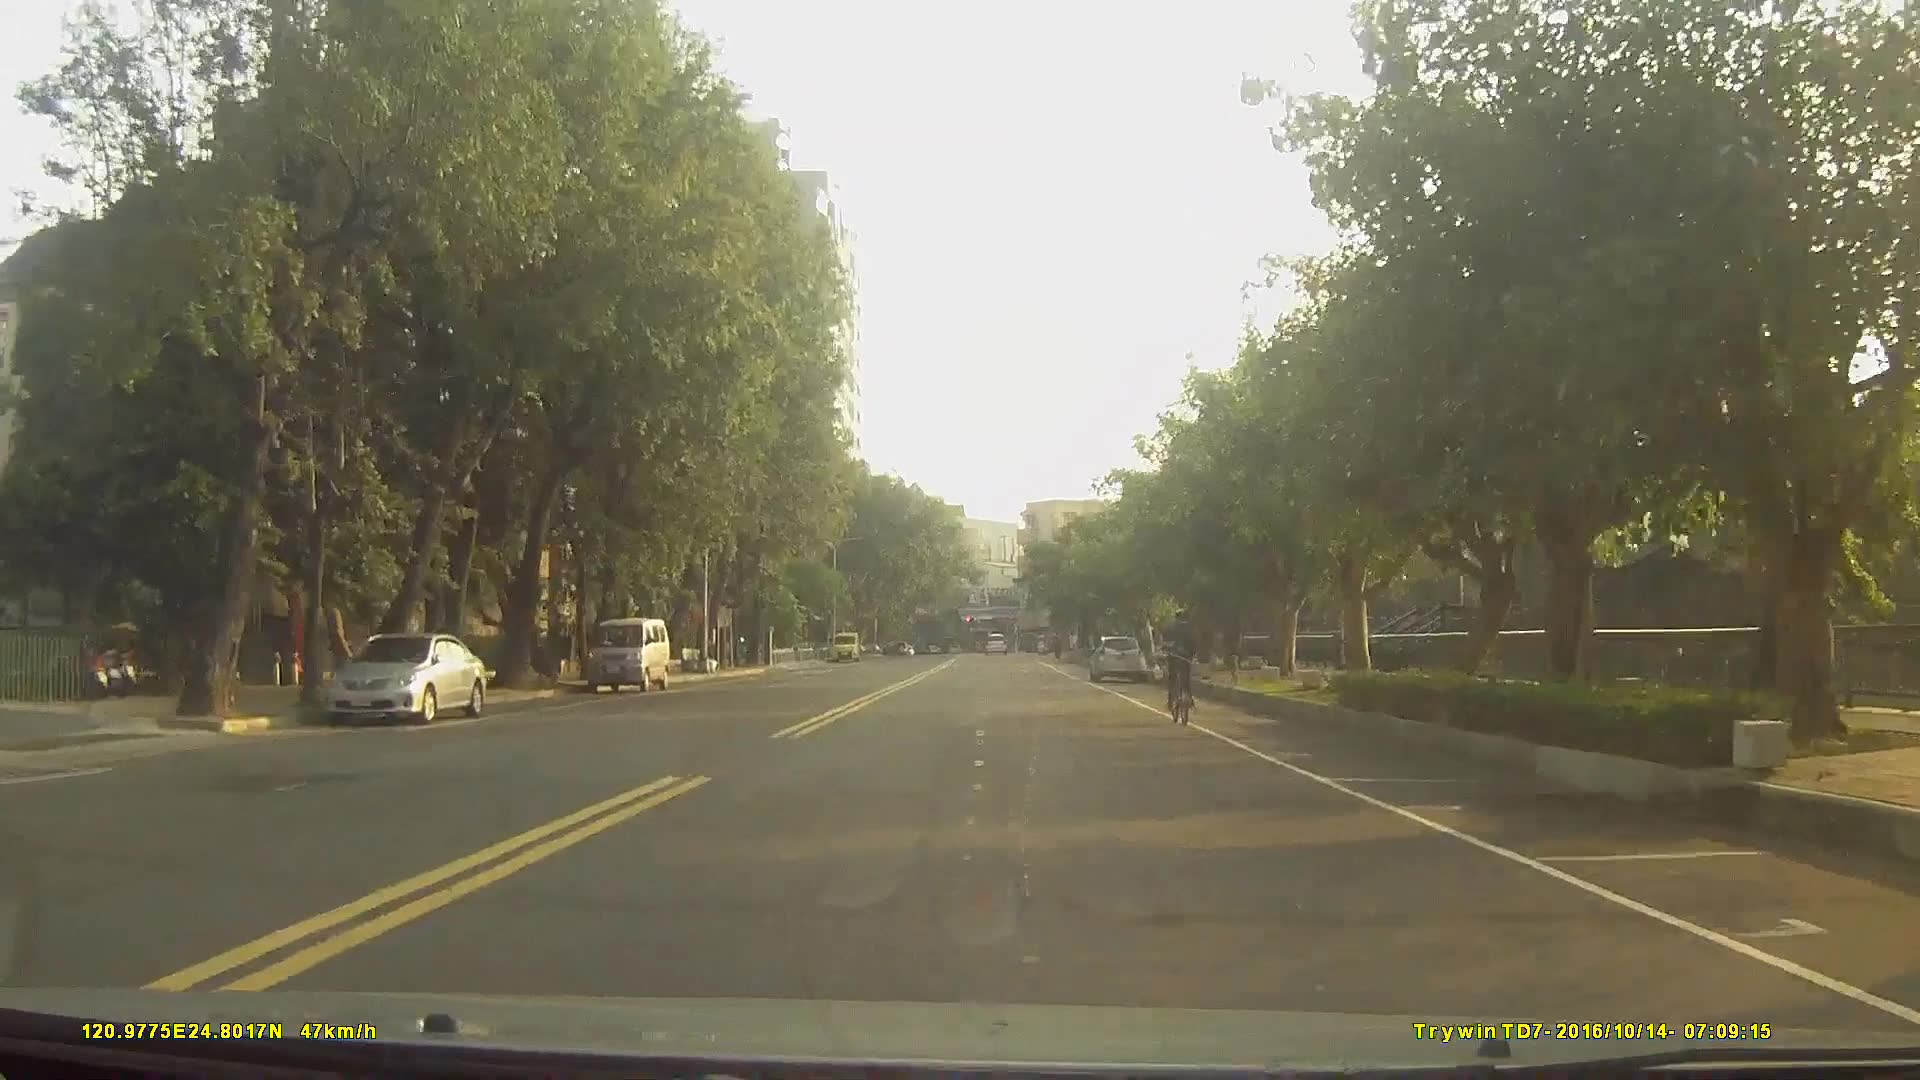rider: (1163, 604, 1201, 722)
vehicle: (319, 626, 488, 722), (583, 613, 671, 689), (1088, 631, 1147, 681), (981, 627, 1008, 655)
